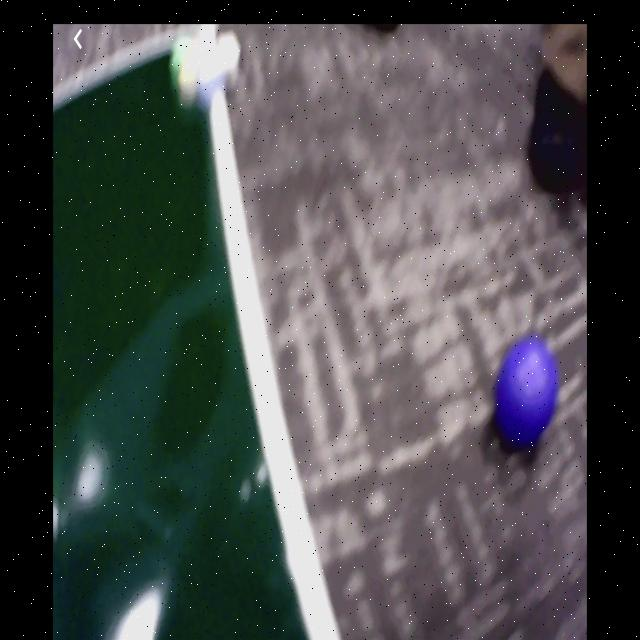ball: (497, 340, 558, 441)
